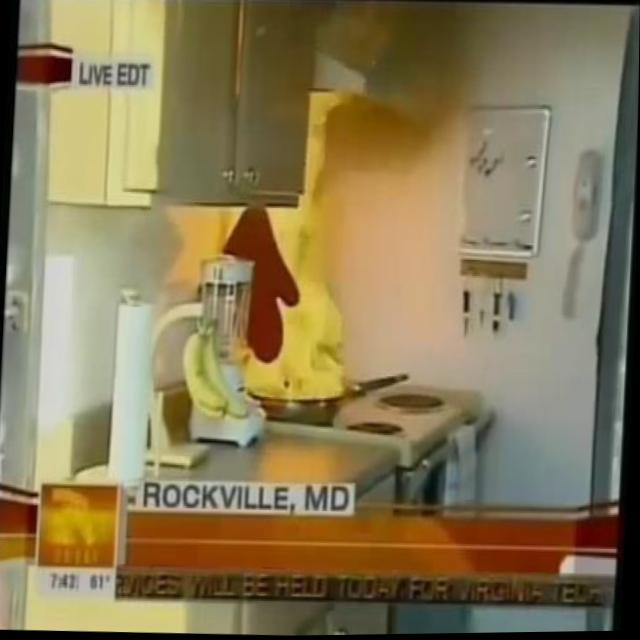fire: (207, 211, 364, 399), (303, 90, 364, 214)
